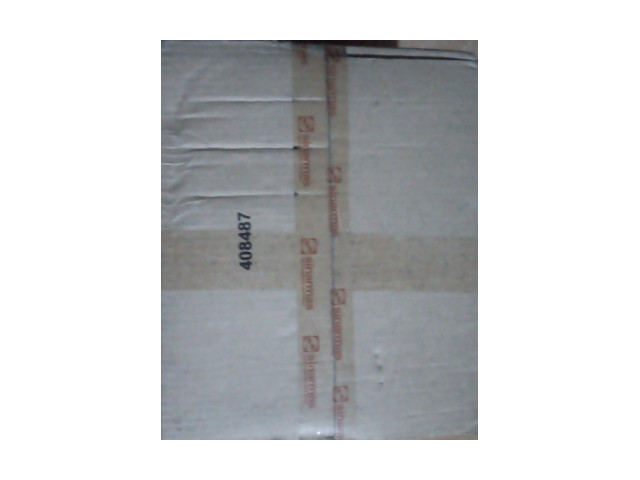cardboard: (162, 43, 470, 439)
